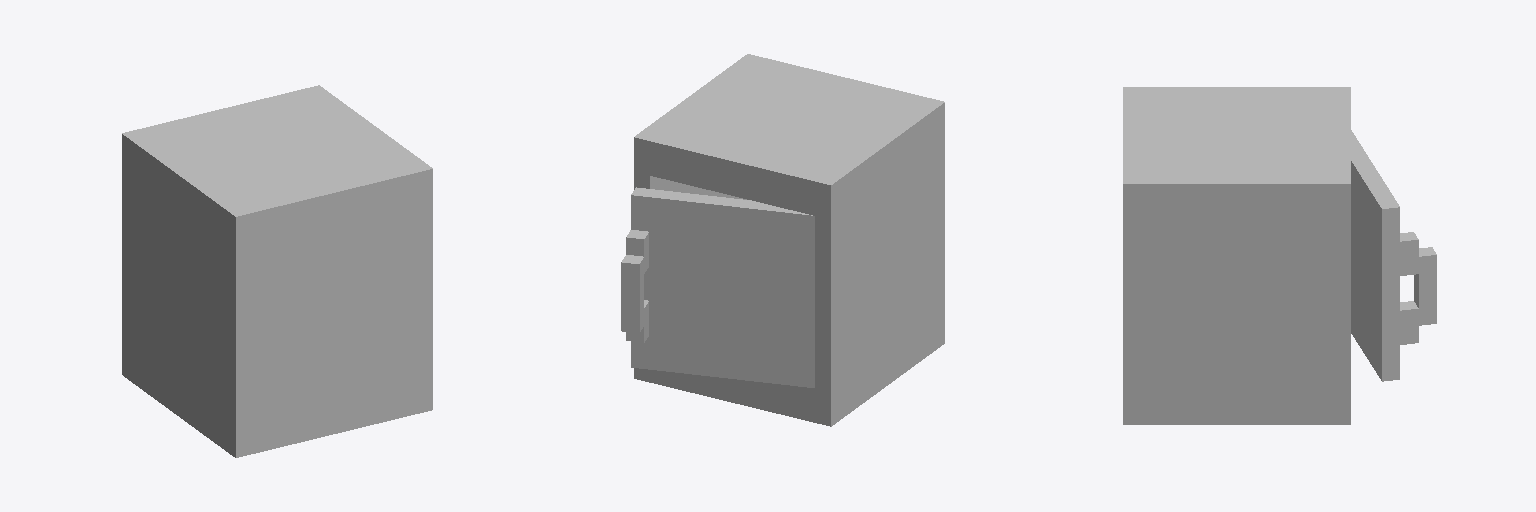
File: Fridge2.obj
The picture shows the model from 3 angles: view 1: azimuth 30°, elevation 25°; view 2: azimuth 150°, elevation 25°; view 3: azimuth 270°, elevation 25°; orthographic projection.
Visible parts, largest first — view 1: cube; view 2: cube; view 3: cube.
Boxes of the visible parts, box(x1,y1,x2,y2) form: cube: box(122, 85, 432, 457); cube: box(621, 54, 944, 426); cube: box(1123, 87, 1436, 424).
Bounding box in the file's own units: 0.75 × 0.875 × 1.03.